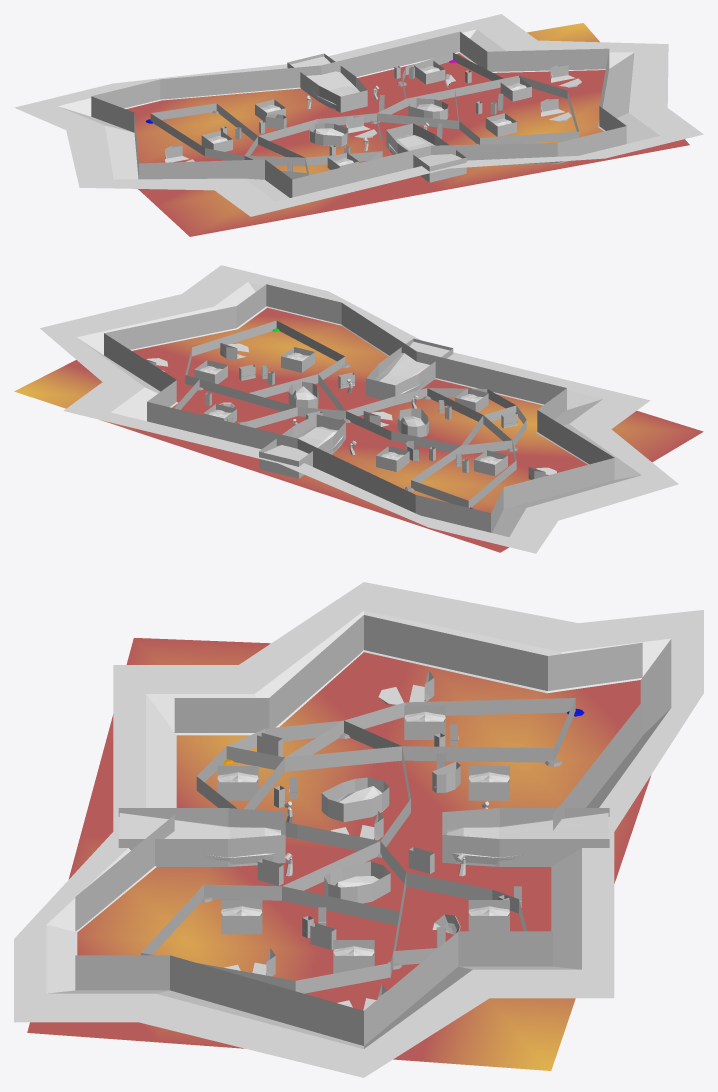
Rendered from Campaign_Spirit.fbx.
The picture shows the model from 3 angles, top to bottom: view 1: azimuth 30°, elevation 25°; view 2: azimuth 150°, elevation 25°; view 3: azimuth 270°, elevation 25°; orthographic projection. The views are drawn at different scales.
Parts seen in each view (by area): view 1: GeometryGround, GeometryWalls, Boundary, Pathfinding, DecorBoundary Rock004.001, DecorBoundary Rock004.002, Decor Rock001.001, Decor Rock001, DecorBoundary Rock003.001, DecorBoundary Rock003, DecorBoundary Rock004.006, DecorBoundary Rock004.005 (+3 smaller); view 2: GeometryGround, GeometryWalls, Boundary, Pathfinding, DecorBoundary Rock004.002, DecorBoundary Rock004.001, Decor Rock001, Decor Rock001.001, DecorBoundary Rock003.001, DecorBoundary Rock004.007, DecorBoundary Rock004.005, DecorBoundary Rock004.003 (+3 smaller); view 3: GeometryGround, GeometryWalls, Boundary, Pathfinding, DecorBoundary Rock004.001, DecorBoundary Rock004.002, Decor Rock001.001, Decor Rock001, DecorBoundary Rock003.001, DecorBoundary Rock003, DecorBoundary Rock004.003, DecorBoundary Rock004.005 (+4 smaller).
Part boxes in pixels (left/top/right/bottom): GeometryGround: left=126, top=23, right=689, bottom=236; GeometryWalls: left=14, top=14, right=703, bottom=216; Boundary: left=91, top=31, right=626, bottom=197; Pathfinding: left=150, top=52, right=579, bottom=179; DecorBoundary Rock004.001: left=386, top=123, right=466, bottom=182; DecorBoundary Rock004.002: left=287, top=53, right=367, bottom=112; Decor Rock001.001: left=290, top=56, right=359, bottom=110; Decor Rock001: left=388, top=134, right=461, bottom=166; DecorBoundary Rock003.001: left=309, top=123, right=348, bottom=146; DecorBoundary Rock003: left=408, top=98, right=448, bottom=119; DecorBoundary Rock004.006: left=500, top=78, right=531, bottom=101; DecorBoundary Rock004.005: left=485, top=113, right=516, bottom=136; GeometryGround: left=14, top=308, right=703, bottom=552; GeometryWalls: left=40, top=265, right=678, bottom=553; Boundary: left=104, top=284, right=614, bottom=532; Pathfinding: left=174, top=320, right=526, bottom=507; DecorBoundary Rock004.002: left=259, top=414, right=345, bottom=478; DecorBoundary Rock004.001: left=366, top=338, right=453, bottom=399; Decor Rock001: left=374, top=341, right=449, bottom=394; Decor Rock001.001: left=263, top=426, right=343, bottom=461; DecorBoundary Rock003.001: left=397, top=408, right=428, bottom=437; DecorBoundary Rock004.007: left=474, top=450, right=507, bottom=476; DecorBoundary Rock004.005: left=281, top=347, right=314, bottom=372; DecorBoundary Rock004.003: left=376, top=446, right=409, bottom=471; GeometryGround: left=27, top=638, right=651, bottom=1070; GeometryWalls: left=14, top=582, right=703, bottom=1077; Boundary: left=75, top=615, right=642, bottom=1045; Pathfinding: left=141, top=698, right=575, bottom=993; DecorBoundary Rock004.001: left=118, top=808, right=285, bottom=866; DecorBoundary Rock004.002: left=442, top=808, right=609, bottom=866; Decor Rock001.001: left=447, top=813, right=608, bottom=866; Decor Rock001: left=119, top=813, right=281, bottom=866; DecorBoundary Rock003.001: left=321, top=777, right=389, bottom=822; DecorBoundary Rock003: left=324, top=861, right=390, bottom=903; DecorBoundary Rock004.003: left=468, top=766, right=509, bottom=800; DecorBoundary Rock004.005: left=221, top=900, right=262, bottom=934.
Bounding box in the file's own units: 29384 × 1397 × 17276.
